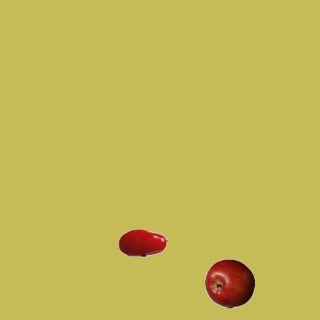Apple Braeburn: (204, 258, 254, 308)
Tomato 2: (117, 217, 167, 267)
